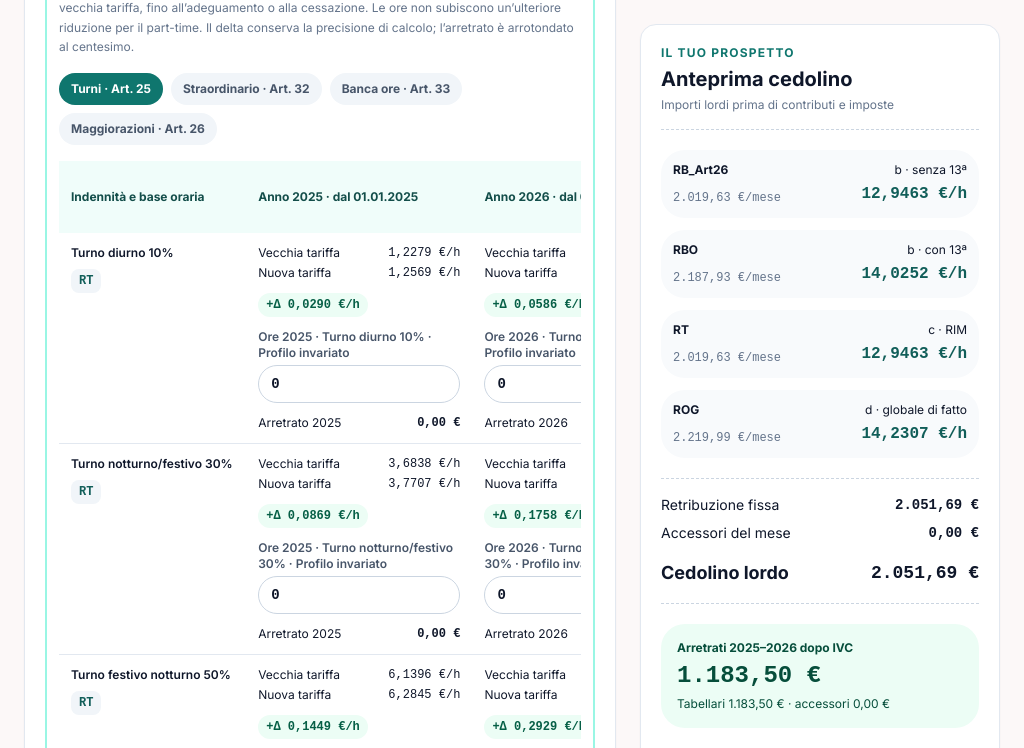
Test: Simulatore individuale · interazioni › mostra subito turni, confronto tariffe e ore 2025/2026 senza aprire fisarmoniche
(page scrolled)
Check: the column heading "Anno 2025 · dal 01.01.2025" is shown, box [246, 160, 472, 232]
Replace the text in the number field labelled "Ore 2025 · Turno diurno 10% · Profilo invariato" with "900" at (359,384), box [258, 364, 460, 402]
(page scrolled)
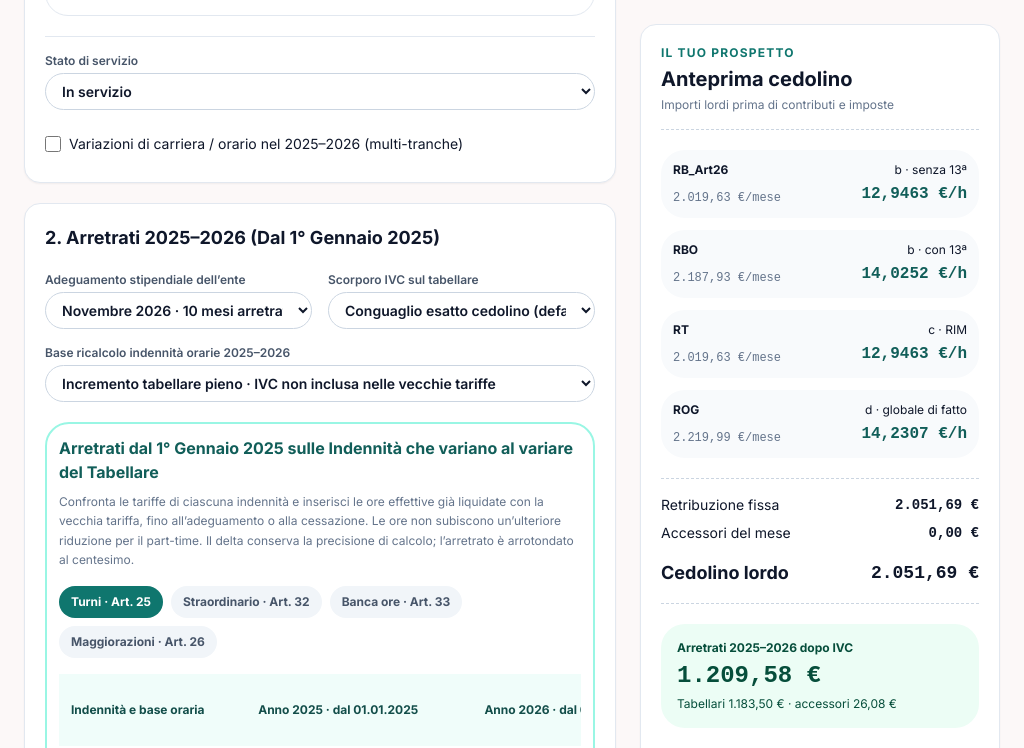
Select "Al netto IVC già inclusa nelle tariffe · media ponderata dell’anno" in the dropdown labelled "Base ricalcolo indennità orarie 2025–2026" at (320,383), box [45, 364, 595, 402]
(page scrolled)
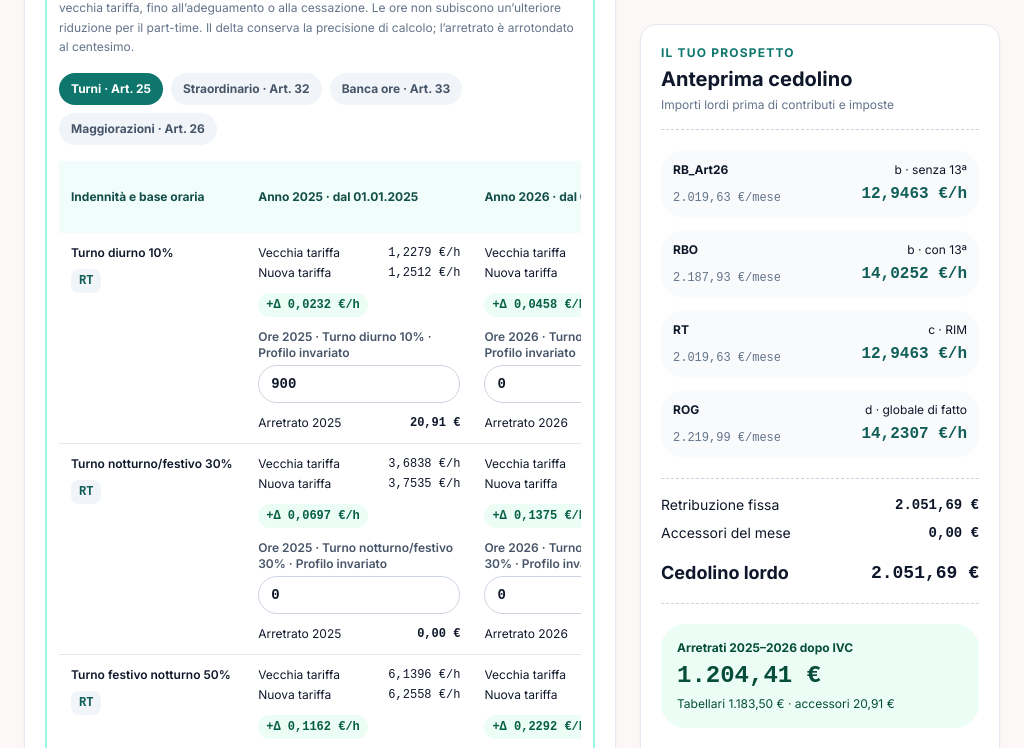
Check: the row "Turno diurno 10%" shows "20,91", box [410, 416, 460, 430]
